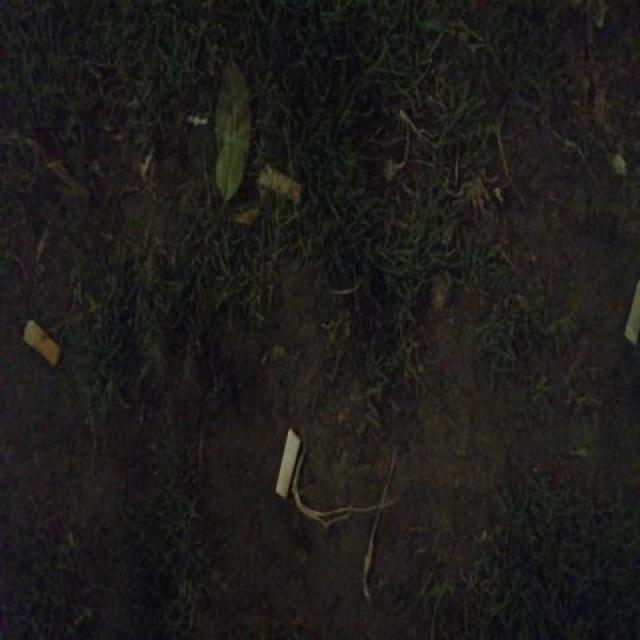non-organic waste: (269, 422, 307, 502), (18, 313, 65, 374), (256, 158, 309, 210)
